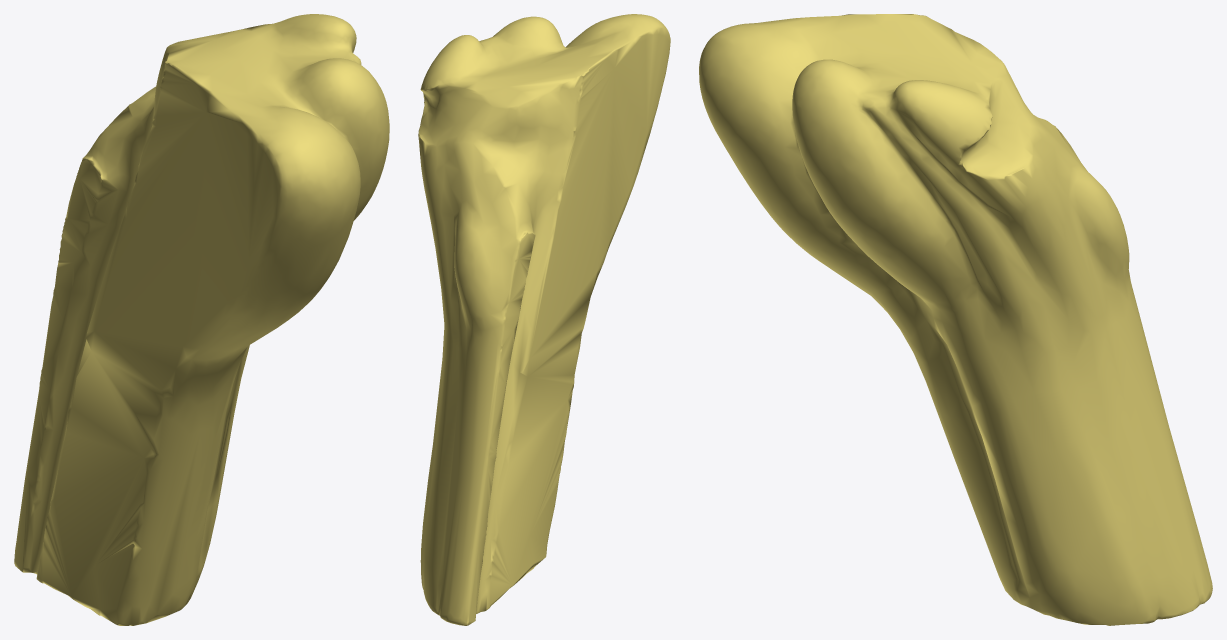
The model's file is medulla-oblongata-l.glb.
3 renders of one model, left to right at view 1: azimuth 30°, elevation 25°; view 2: azimuth 150°, elevation 25°; view 3: azimuth 270°, elevation 25°, orthographic. The views are drawn at different scales.
Parts seen in each view (by area): view 1: Medulla oblongata.l; view 2: Medulla oblongata.l; view 3: Medulla oblongata.l.
Boxes of the visible parts, x1=… form: Medulla oblongata.l: x1=14, y1=14, x2=389, y2=625; Medulla oblongata.l: x1=418, y1=14, x2=670, y2=625; Medulla oblongata.l: x1=699, y1=14, x2=1212, y2=625.
Size of the model in its own units: 0.013 by 0.0401 by 0.0322.
